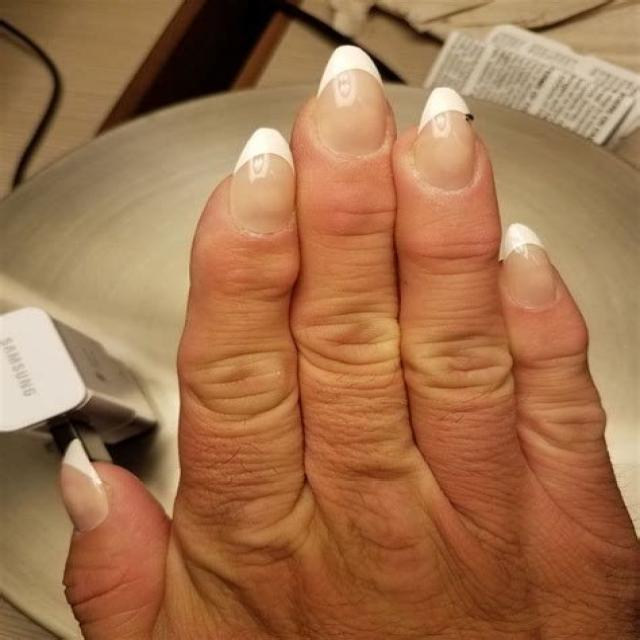Fingernail: (317, 45, 387, 156), (230, 129, 296, 237), (416, 88, 477, 191), (502, 223, 558, 310), (59, 438, 108, 532)
